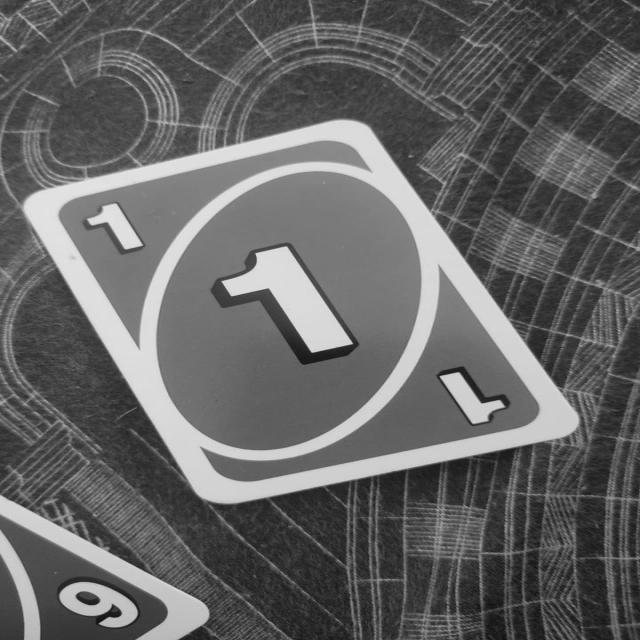card_1: (21, 118, 580, 504)
card_9: (6, 503, 207, 640)
